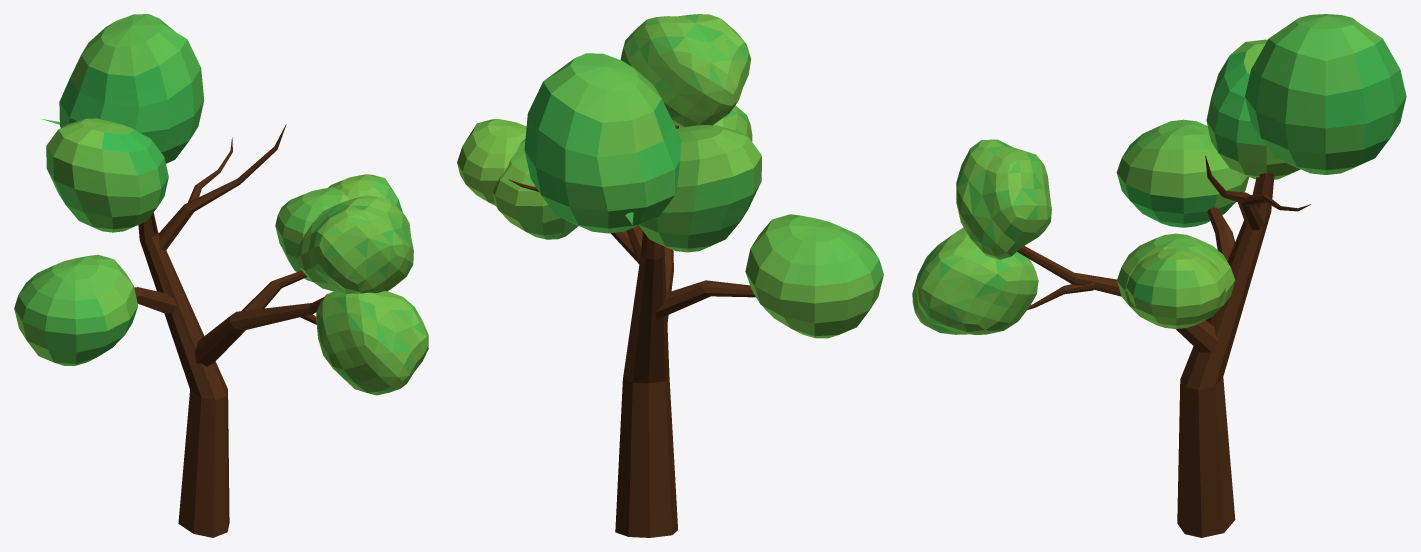
The model's file is pohon.fbx.
3 renders of one model, left to right at view 1: azimuth 30°, elevation 25°; view 2: azimuth 150°, elevation 25°; view 3: azimuth 270°, elevation 25°, orthographic. The views are drawn at different scales.
Visible parts, largest first — view 1: default1; view 2: default1; view 3: default1.
Part boxes in pixels (box(x1,y1,x2,y2)): default1: box(14, 14, 428, 537); default1: box(457, 14, 883, 537); default1: box(912, 14, 1406, 537).
Size of the model in its own units: 561 by 675 by 601.
1 material, 1 textured.
